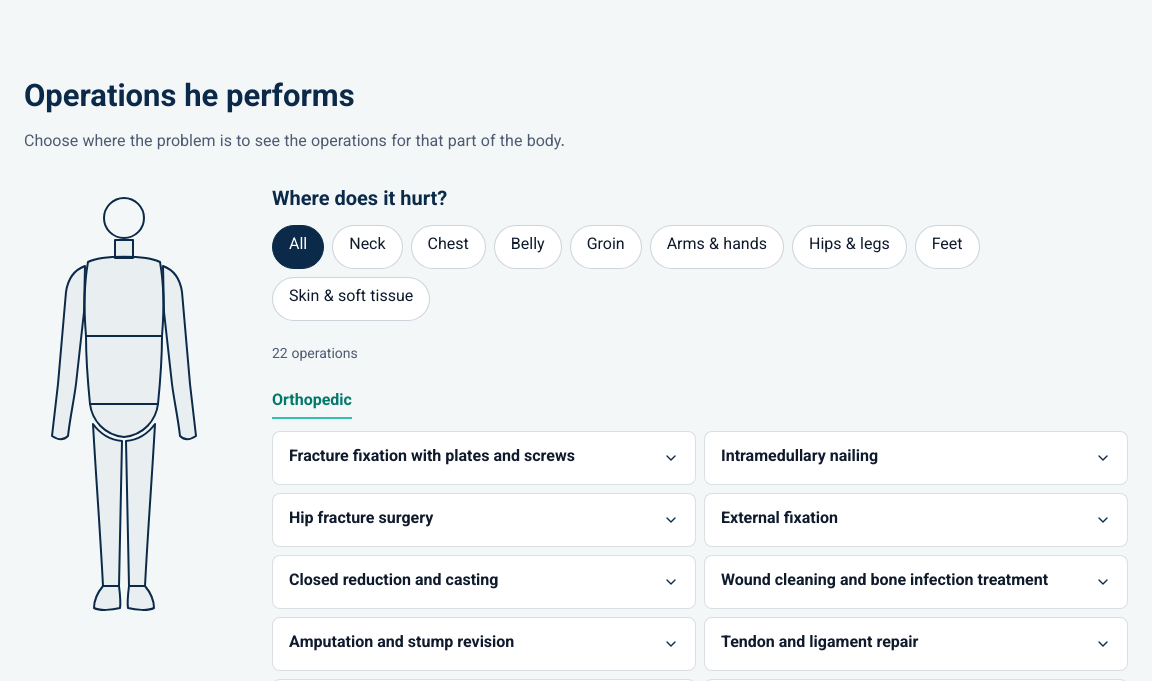
it: choosing the active region again shows everything
Click the button "Groin" at (606,246), box [570,224,642,268]
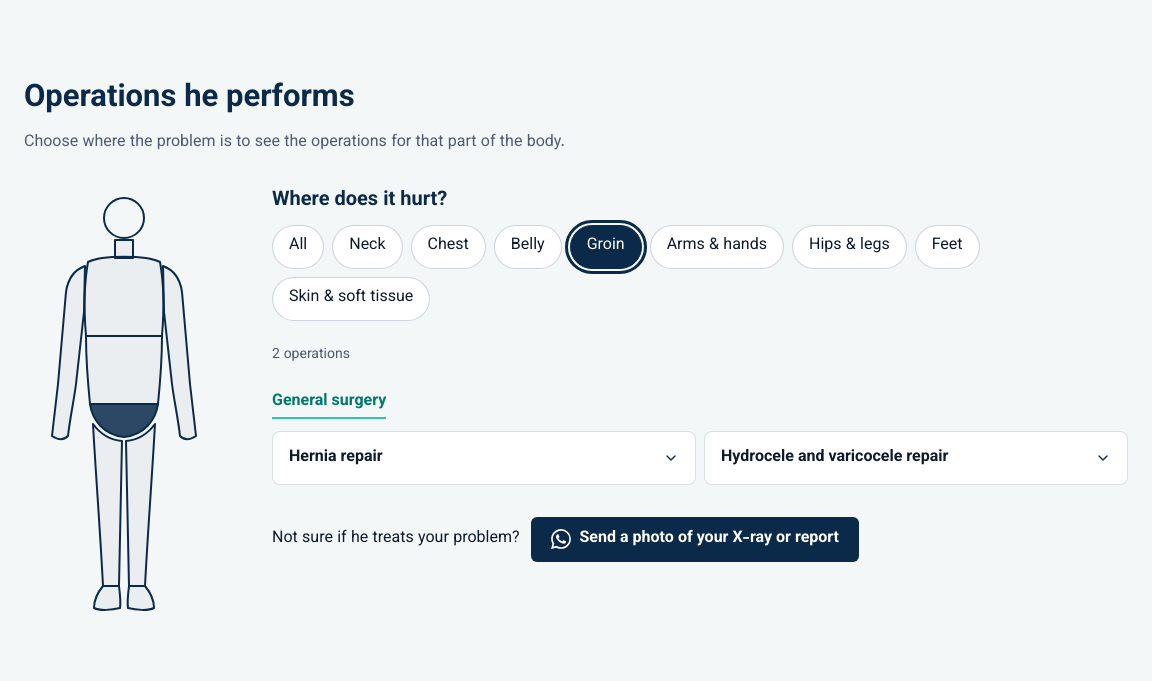
Click the button "Groin" at (606,246), box [570,224,642,268]
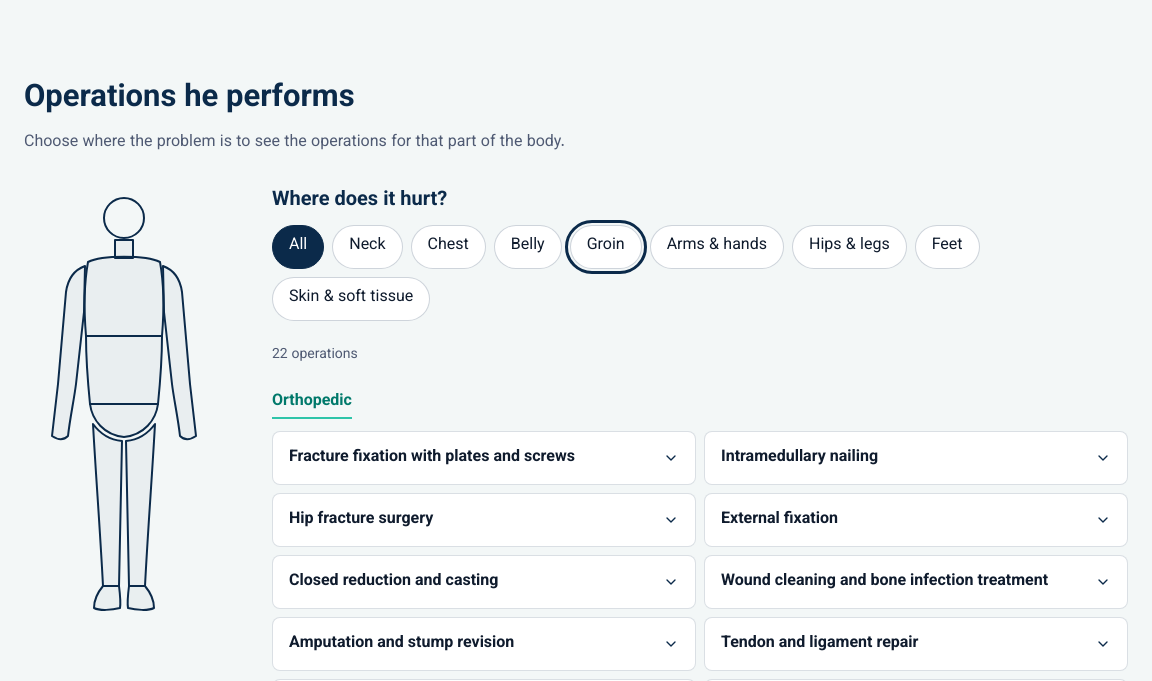
Expected: the number of list items is 22
